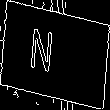N_S: (41, 27, 69, 83)
